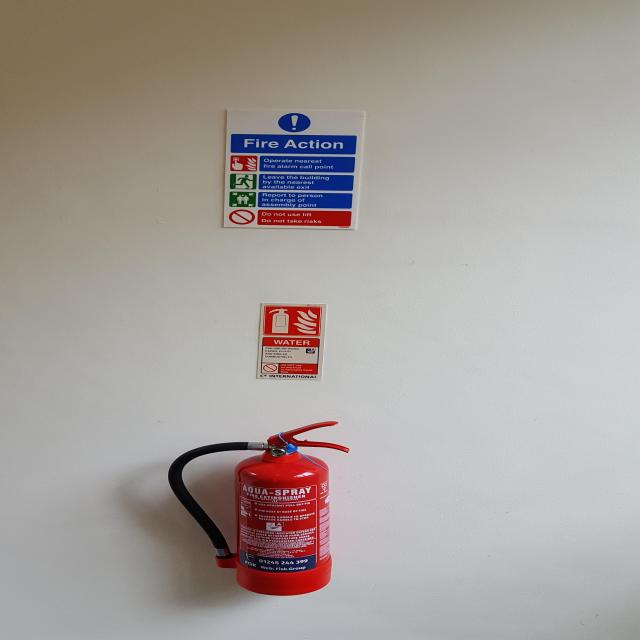fire_extinguisher: (163, 420, 357, 598)
